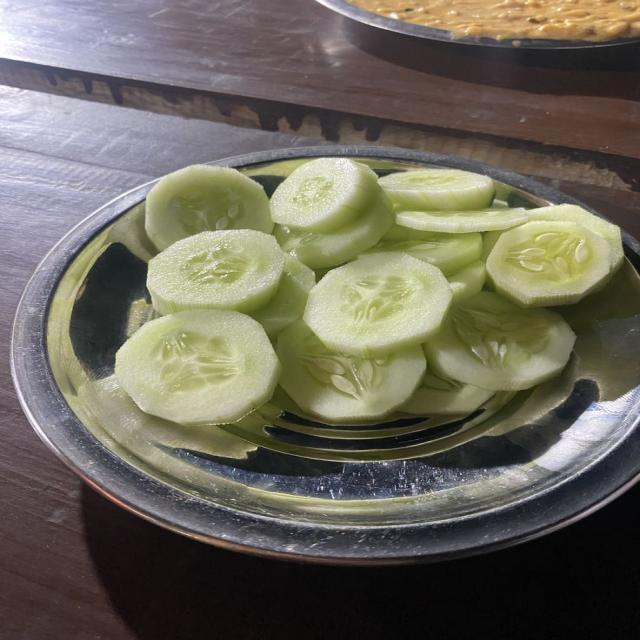cucumber sliced: (115, 310, 280, 424), (74, 376, 257, 471), (304, 254, 452, 357), (277, 322, 426, 424), (425, 292, 575, 390), (147, 230, 285, 314), (146, 165, 273, 250), (487, 221, 610, 306), (274, 197, 393, 269), (271, 158, 380, 233), (527, 205, 623, 274), (528, 205, 623, 272), (364, 226, 482, 274), (252, 256, 315, 339), (379, 169, 495, 210), (400, 370, 495, 415), (396, 208, 528, 234), (107, 202, 158, 262), (447, 261, 486, 303), (480, 230, 505, 262)
